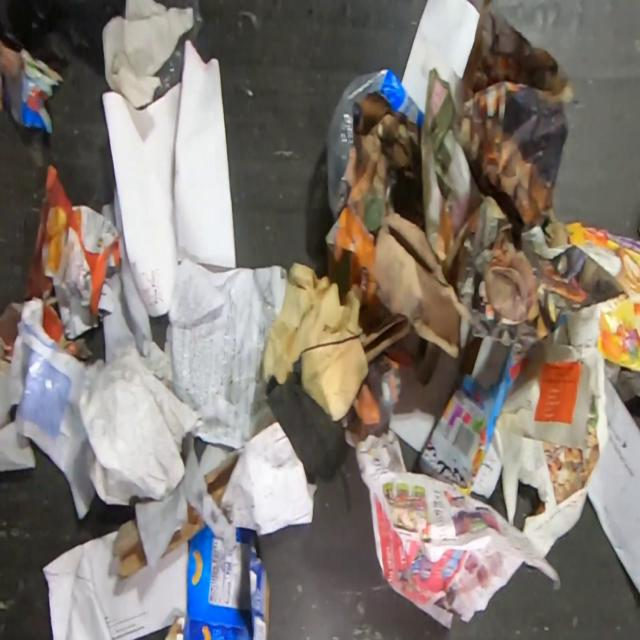cardboard: (162, 524, 270, 640), (562, 220, 640, 375)
soft_plastic: (21, 163, 124, 340), (326, 68, 424, 224), (0, 36, 64, 135)
